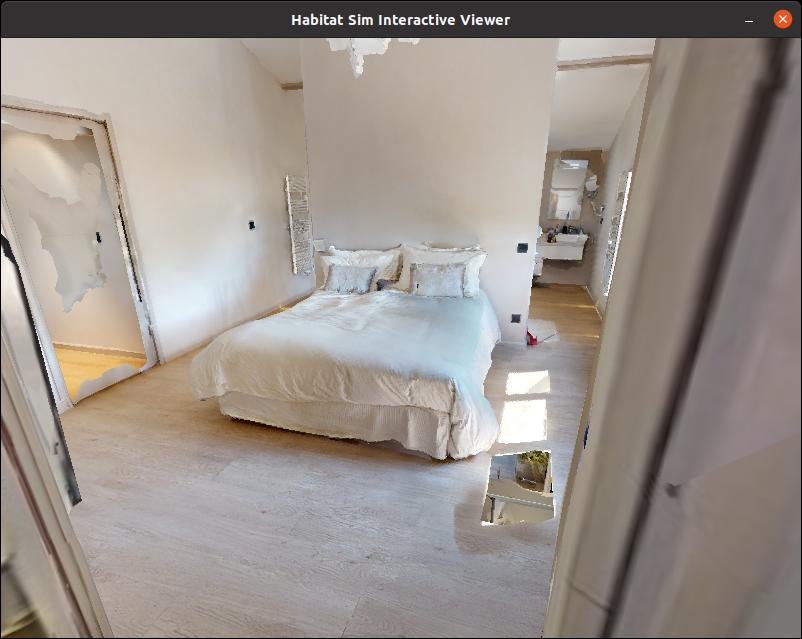bed: (207, 221, 500, 464)
door-frame: (0, 82, 171, 425)
